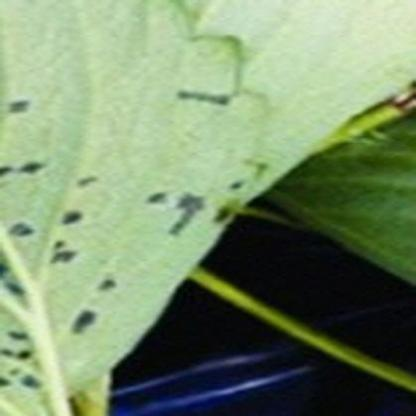Strawberry_Angular_LeafSpot: (0, 79, 270, 400)
